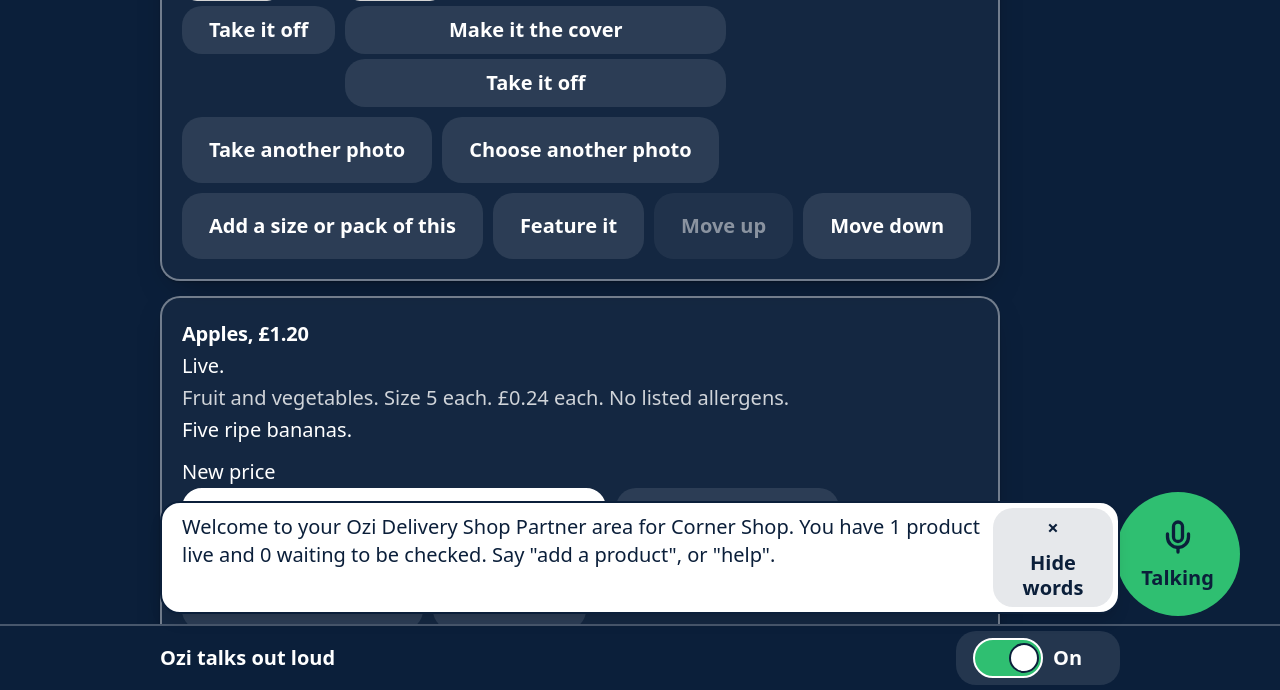
each product on a Pro dashboard › shows its details and photos, features it, moves it, and opens the form for a size or pack
The image size is (1280, 690).
(page scrolled)
Expected: the button named "Make it the cover of Bananas, photo 2" is shown, [345,6,726,54]
Expected: the file field labelled "Take another photo" is shown, [182,117,432,183]
Click the button "Feature it": [568, 226] box [493,193,644,259]
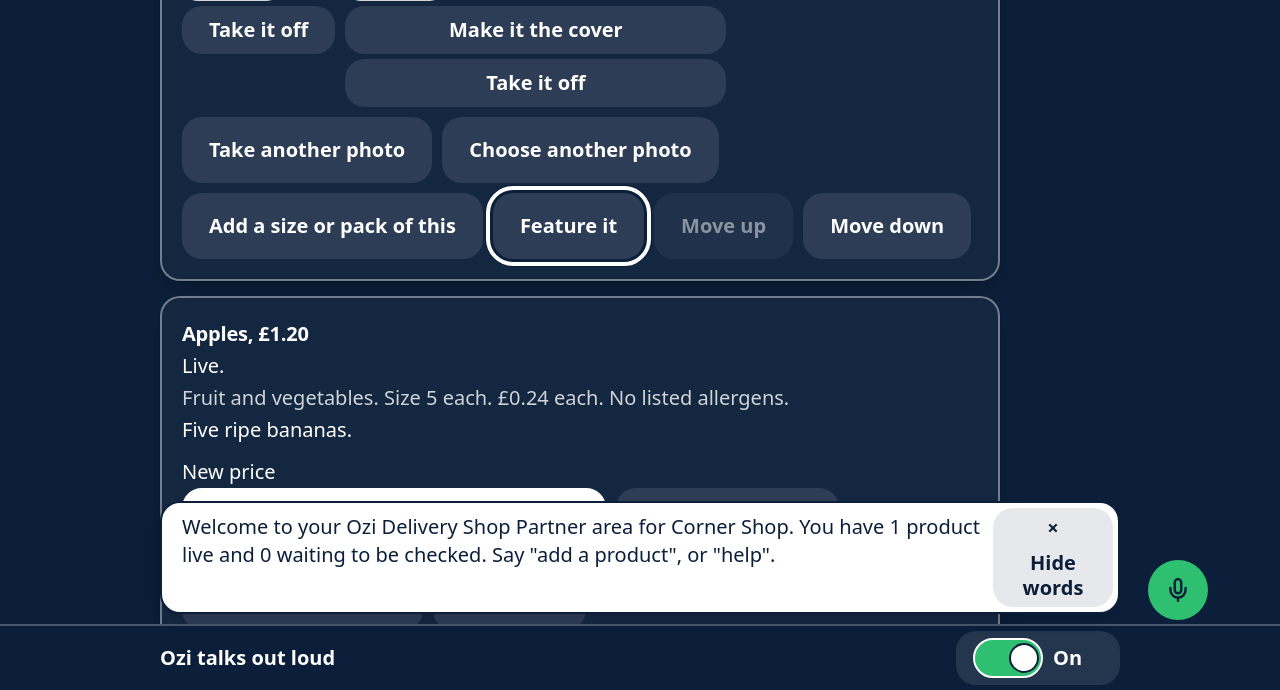
Expected: the button "Move up" is disabled, [654,193,793,259]
Click the button "Move down": [887, 226] box [803,193,971,259]
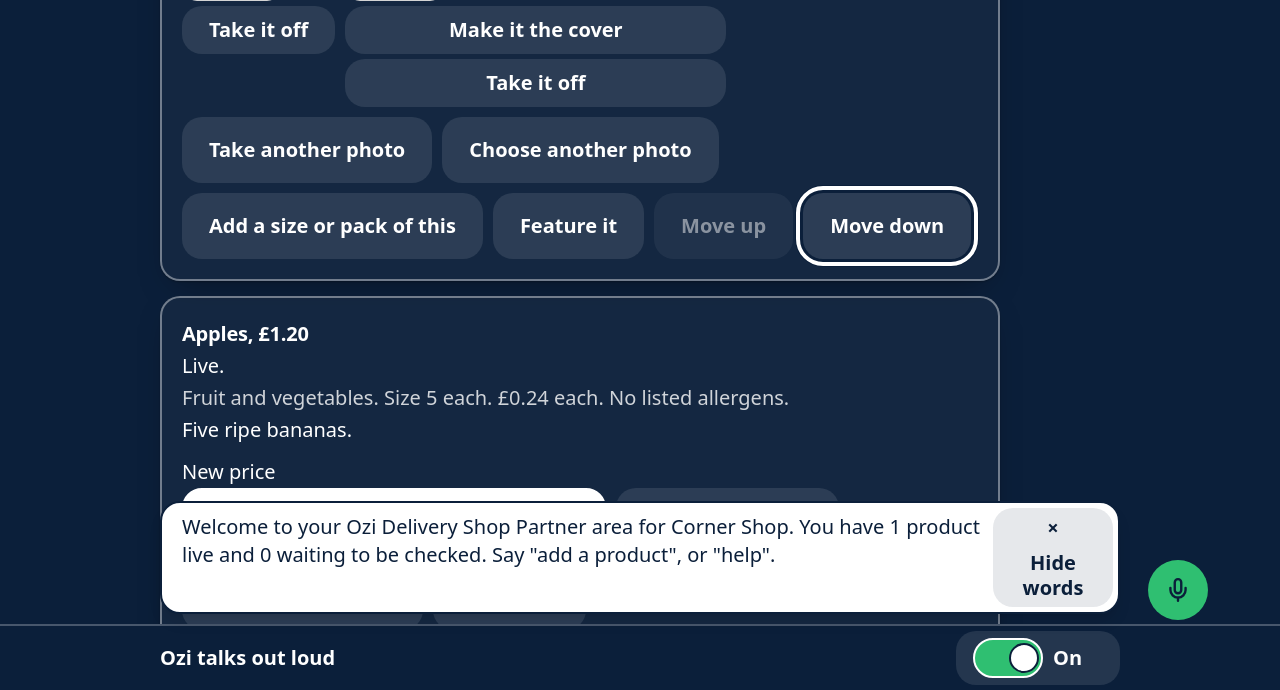
Click the button "Add a size or pack of this": [332, 226] box [182,193,483,259]
(page scrolled)
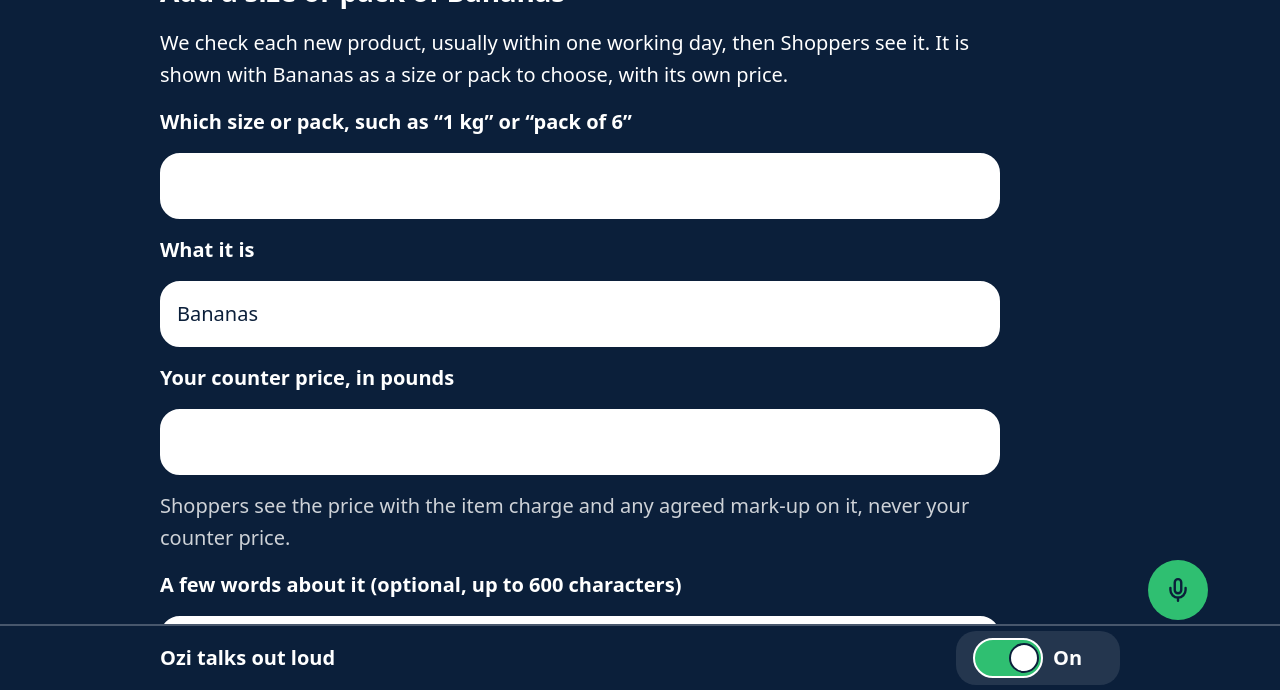
Expected: the field labelled "Which size or pack, such as “1 kg” or “pack of 6”" is shown, [160,152,1000,218]
Expected: the field labelled "What it is" holds "Bananas", [160,280,1000,346]
